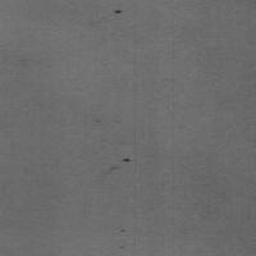Inclusion: (109, 156, 132, 172), (113, 8, 124, 15)
